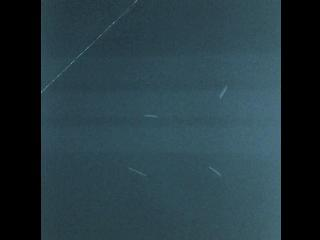crack: (40, 0, 140, 94)
scratch: (122, 161, 154, 183), (202, 160, 229, 182), (213, 78, 233, 107), (138, 107, 165, 125)
